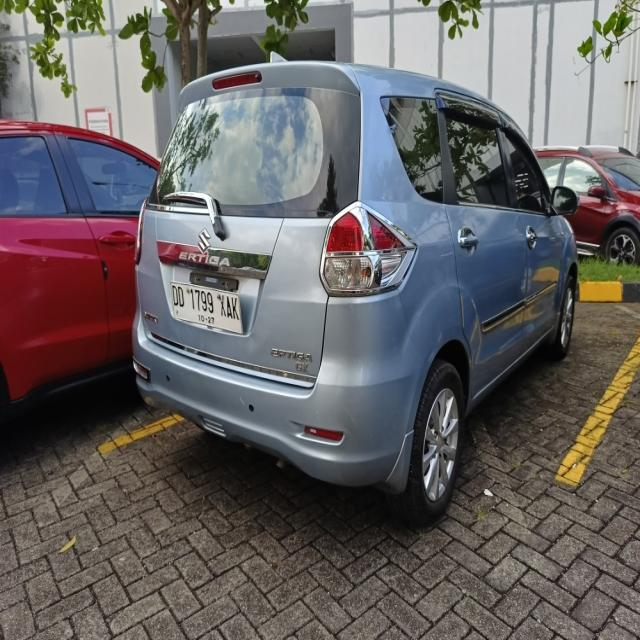plates: (165, 273, 243, 331)
